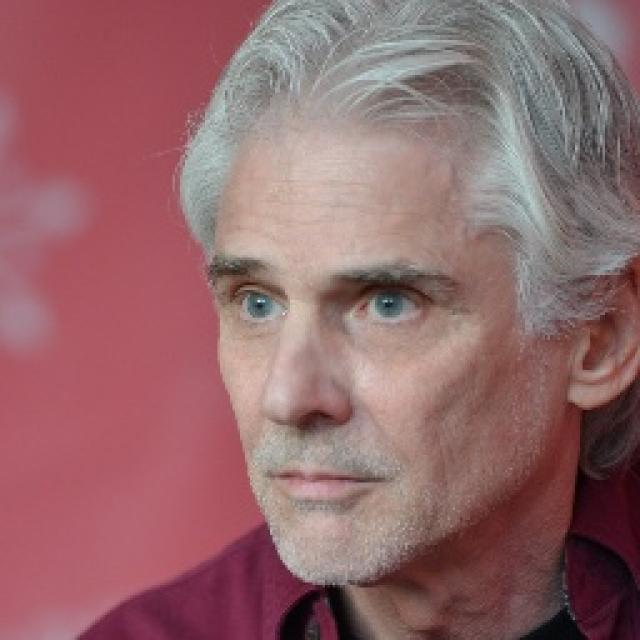earlobe: (568, 365, 606, 412)
eye: (355, 285, 426, 323), (232, 288, 288, 324)
nose: (259, 400, 354, 466)
wholeear: (568, 251, 640, 411)
